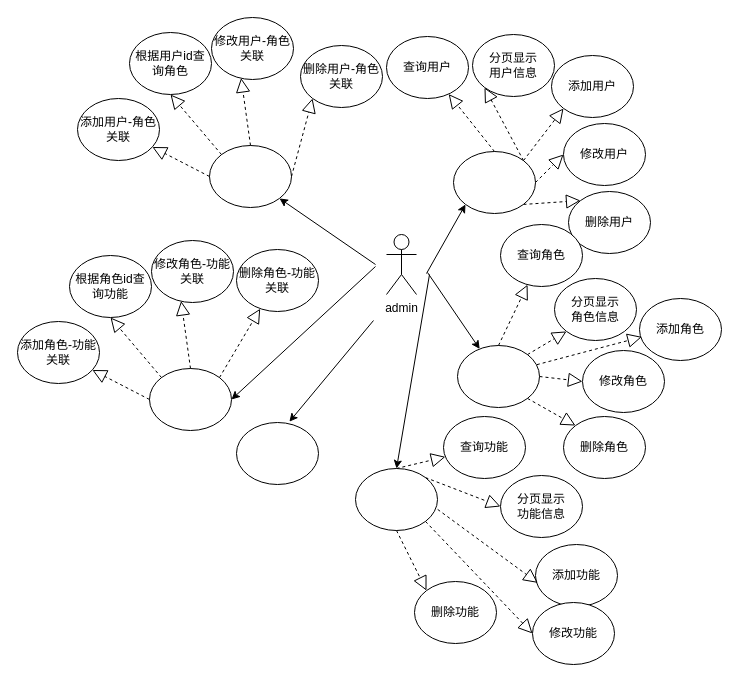
The diagram is 739 pixels wide and 682 high, and some of its shapes have lost their labels. Each missing label, with the centre of its shape:
判断用户执行权限: the point at 277,453
功能管理: the point at 396,499
用户分配 角色: the point at 250,176
用户管理: the point at 494,182
角色分配功能: the point at 190,399
角色管理: the point at 498,376
